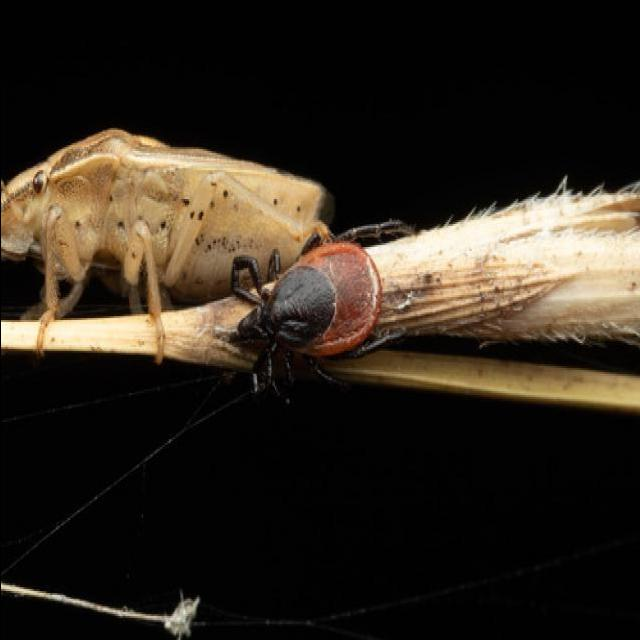Ixodes Ricinus-F: (227, 215, 417, 396)
